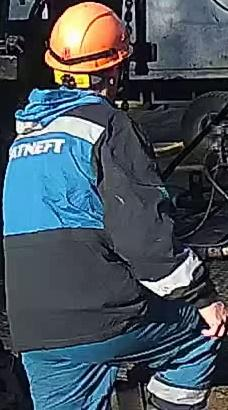helmet: (43, 1, 131, 73)
vest: (1, 90, 163, 362)
